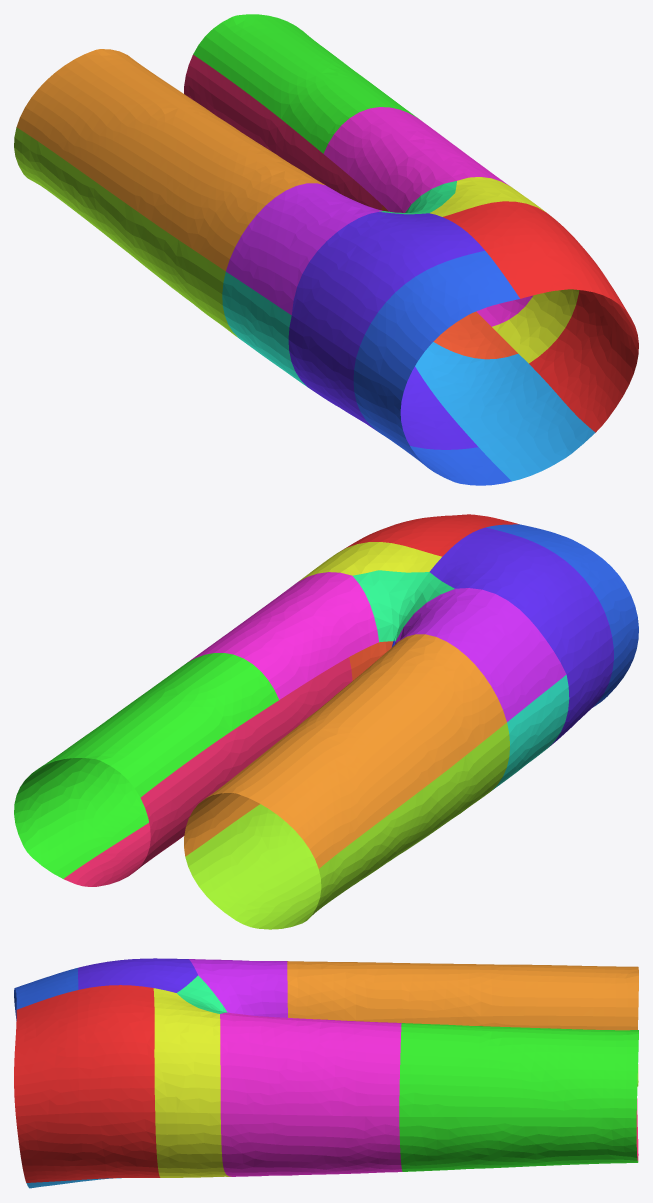
The model's file is longpants_garmentA.obj.
The picture shows the model from 3 angles, top to bottom: view 1: azimuth 30°, elevation 25°; view 2: azimuth 150°, elevation 25°; view 3: azimuth 270°, elevation 25°; orthographic projection. The views are drawn at different scales.
Visible parts, largest first — view 1: longpants_garmentA; view 2: longpants_garmentA; view 3: longpants_garmentA.
Part boxes in pixels (x1,y1,x2,y2): longpants_garmentA: [14, 14, 638, 485]; longpants_garmentA: [14, 514, 638, 929]; longpants_garmentA: [14, 958, 638, 1188].
Size of the model in its own units: 438 by 296 by 877.
